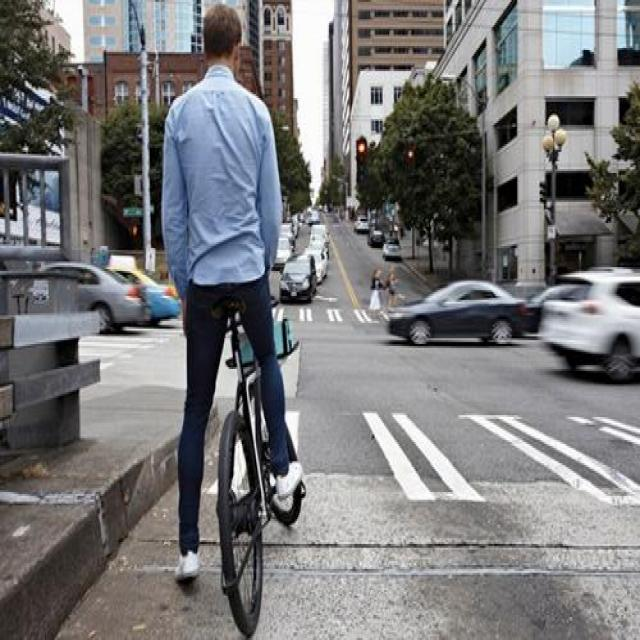bikerider: (148, 0, 336, 623)
